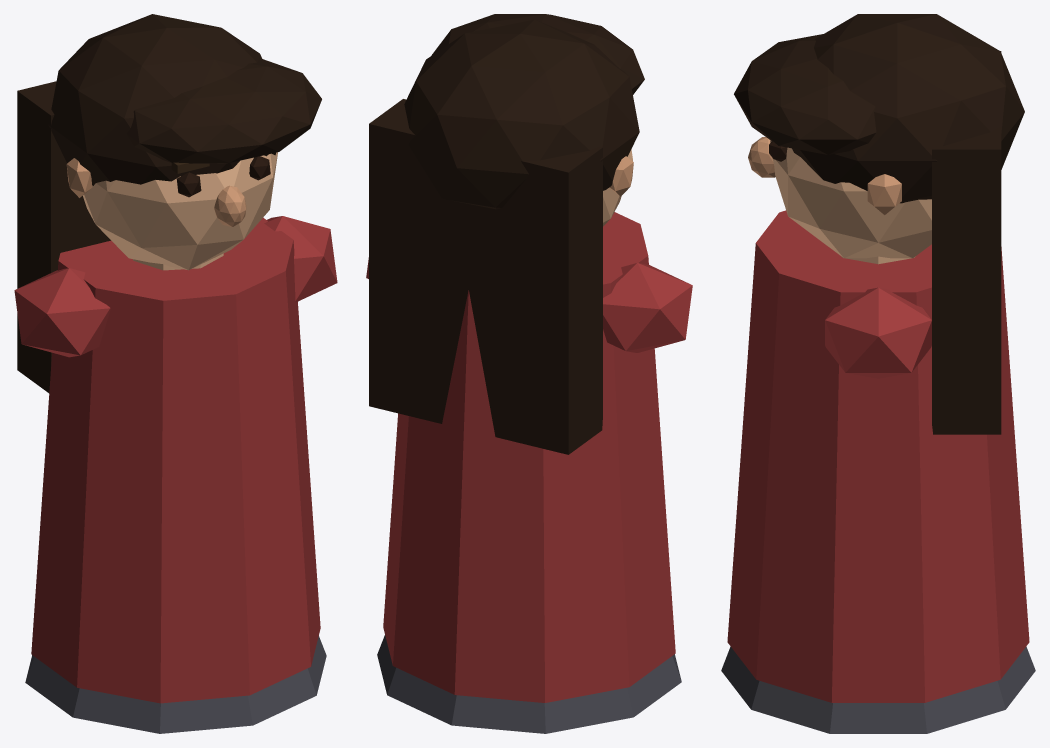
Rendered from insan_k3s_govde.glb.
3 views of the same model, side by side, from view 1: azimuth 30°, elevation 25°; view 2: azimuth 150°, elevation 25°; view 3: azimuth 270°, elevation 25° (orthographic). The views are drawn at different scales.
Visible parts, largest first — view 1: Cone; view 2: Cone; view 3: Cone.
Boxes of the visible parts, x1=… form: Cone: x1=14, y1=14, x2=337, y2=733; Cone: x1=366, y1=14, x2=692, y2=733; Cone: x1=721, y1=14, x2=1035, y2=733.
Bounding box in the file's own units: 0.1158 × 0.2272 × 0.1.
